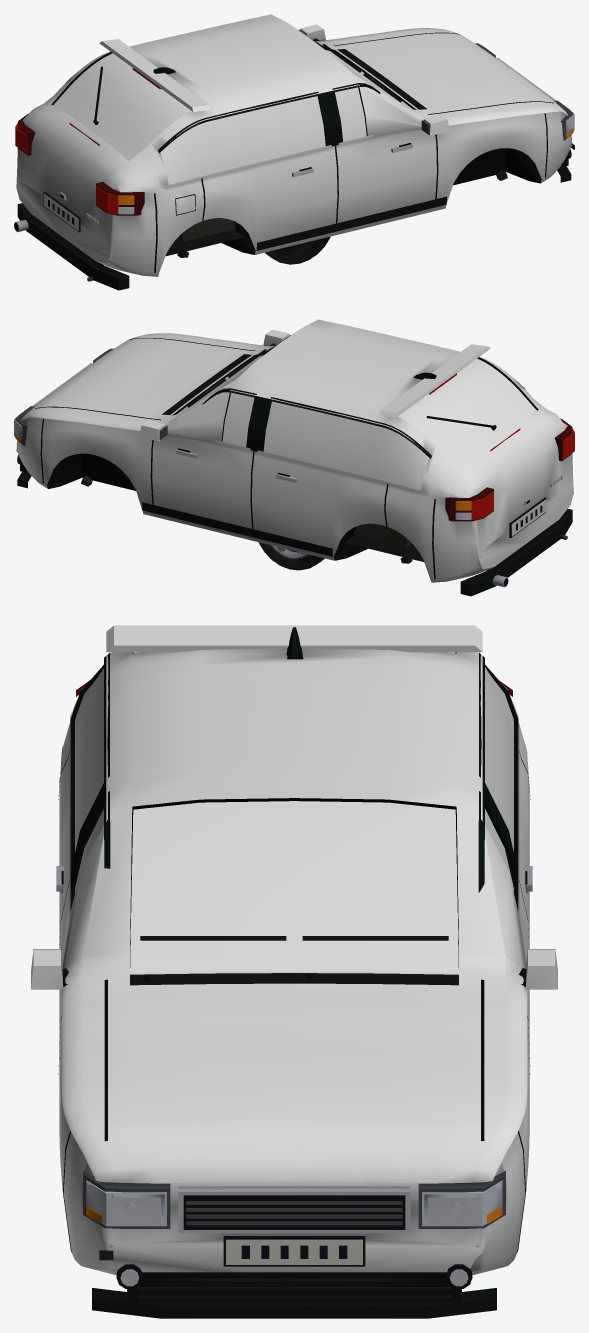
Rendered from hatch-mid.glb.
3 renders of one model, top to bottom at view 1: azimuth 30°, elevation 25°; view 2: azimuth 150°, elevation 25°; view 3: azimuth 270°, elevation 25°, orthographic. The views are drawn at different scales.
Visible parts, largest first — view 1: paint, detail, glass, wheel; view 2: paint, detail, glass, wheel; view 3: paint, glass, detail.
Boxes of the visible parts, left/top/right/bottom form: paint: left=16, top=14, right=572, bottom=276; detail: left=14, top=29, right=574, bottom=290; glass: left=53, top=50, right=411, bottom=184; wheel: left=265, top=236, right=330, bottom=264; paint: left=16, top=319, right=573, bottom=582; detail: left=14, top=335, right=574, bottom=596; glass: left=176, top=355, right=536, bottom=490; wheel: left=258, top=542, right=324, bottom=570; paint: left=31, top=625, right=557, bottom=1275; glass: left=75, top=652, right=513, bottom=972; detail: left=33, top=627, right=555, bottom=1318.
Size of the model in its own units: 1.35 by 0.6084 by 0.6435.
